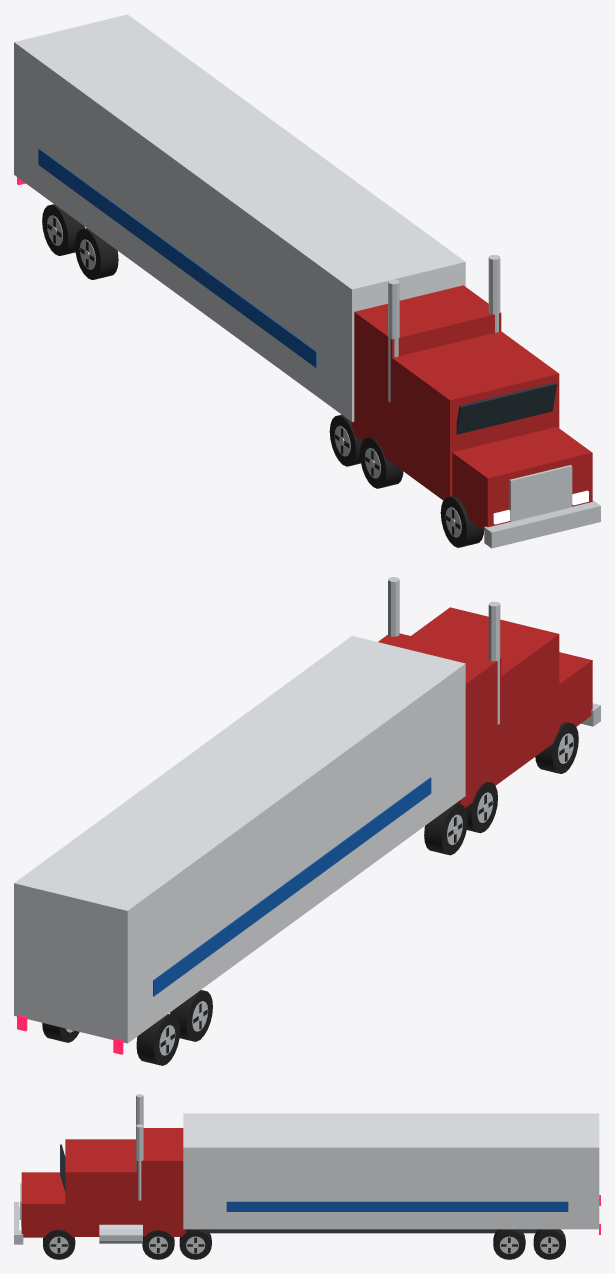
The model's file is exits_semi.glb.
The picture shows the model from 3 angles, top to bottom: view 1: azimuth 30°, elevation 25°; view 2: azimuth 150°, elevation 25°; view 3: azimuth 270°, elevation 25°; orthographic projection. The views are drawn at different scales.
Visible parts, largest first — view 1: ExitsSemi_body, Wheel_R1R, Wheel_R2R, Wheel_FR, Wheel_M1R, Wheel_M2R; view 2: ExitsSemi_body, Wheel_M2R, Wheel_R2R, Wheel_R1R, Wheel_FR, Wheel_M1R; view 3: ExitsSemi_body, Wheel_R1L, Wheel_R2L, Wheel_M2L, Wheel_FL, Wheel_M1L.
Part boxes in pixels (x1=…): ExitsSemi_body: x1=14, y1=14, x2=600, y2=548; Wheel_R1R: x1=75, y1=228, x2=118, y2=279; Wheel_R2R: x1=42, y1=204, x2=85, y2=255; Wheel_FR: x1=440, y1=496, x2=483, y2=547; Wheel_M1R: x1=360, y1=437, x2=403, y2=488; Wheel_M2R: x1=329, y1=414, x2=362, y2=466; ExitsSemi_body: x1=14, y1=577, x2=600, y2=1054; Wheel_M2R: x1=424, y1=803, x2=467, y2=855; Wheel_R2R: x1=136, y1=1014, x2=180, y2=1065; Wheel_R1R: x1=170, y1=990, x2=212, y2=1041; Wheel_FR: x1=535, y1=722, x2=578, y2=773; Wheel_M1R: x1=465, y1=782, x2=497, y2=833; ExitsSemi_body: x1=14, y1=1094, x2=600, y2=1244; Wheel_R1L: x1=493, y1=1229, x2=525, y2=1259; Wheel_R2L: x1=533, y1=1229, x2=565, y2=1259; Wheel_M2L: x1=179, y1=1229, x2=211, y2=1259; Wheel_FL: x1=43, y1=1229, x2=75, y2=1259; Wheel_M1L: x1=142, y1=1230, x2=174, y2=1259.
Bounding box in the file's own units: 2.97 × 4.7 × 18.9.
